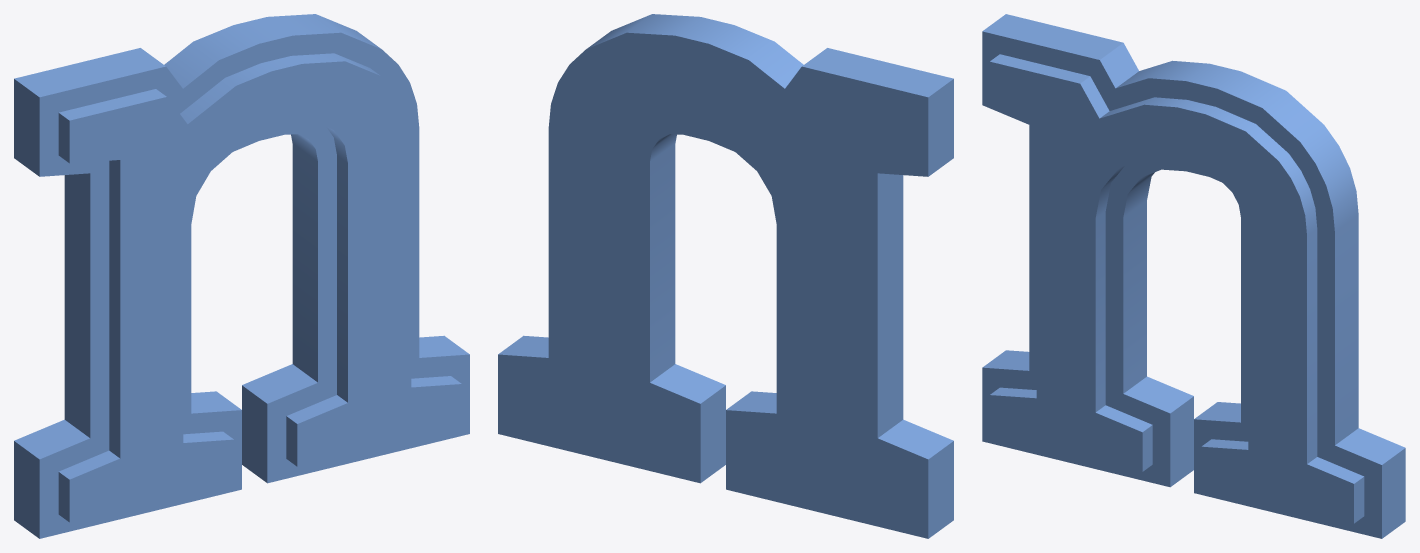
3 renders of one model, left to right at view 1: azimuth 30°, elevation 25°; view 2: azimuth 150°, elevation 25°; view 3: azimuth 330°, elevation 25°, orthographic. The views are drawn at different scales.
Parts seen in each view (by area): view 1: n; view 2: n; view 3: n.
Boxes of the visible parts, left/top/right/bottom form: n: left=14, top=14, right=469, bottom=538; n: left=498, top=14, right=953, bottom=538; n: left=982, top=14, right=1405, bottom=538.
Size of the model in its own units: 3.4 by 3.33 by 0.5.
